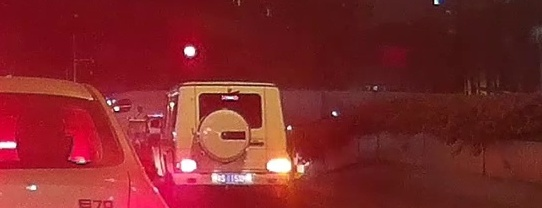L_light: (176, 159, 196, 172)
R_light: (267, 161, 290, 174)
T_light: (221, 95, 238, 100)
night-no: (172, 81, 291, 202)
